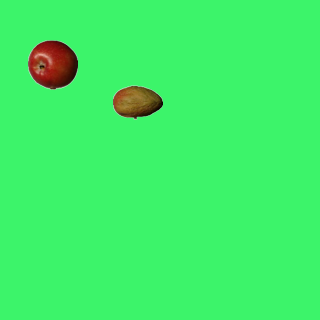Apple Braeburn: (27, 39, 77, 89)
Papaya: (112, 77, 162, 127)
